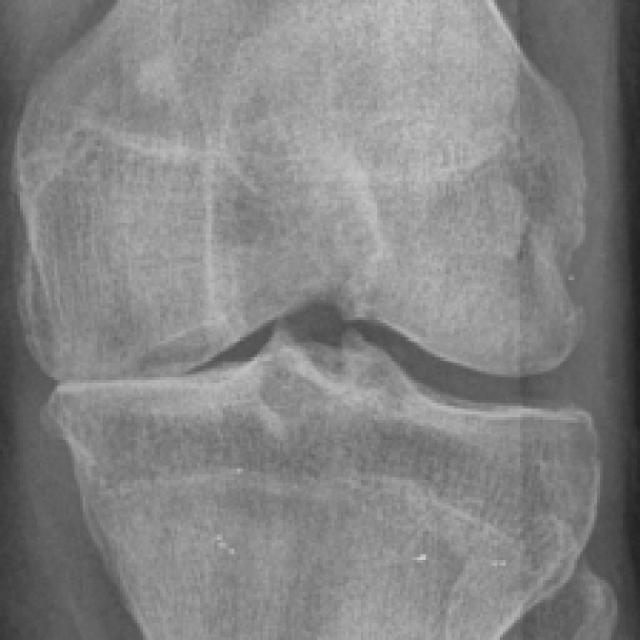femur: (10, 0, 588, 381)
tibia: (59, 328, 602, 640)
